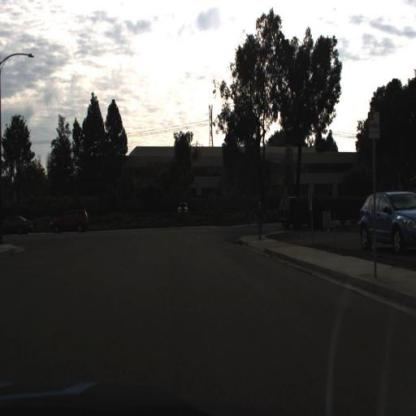car: (359, 192, 416, 259), (49, 206, 93, 234), (1, 213, 35, 236), (177, 199, 192, 221)
pedestrian: (255, 195, 269, 243)
